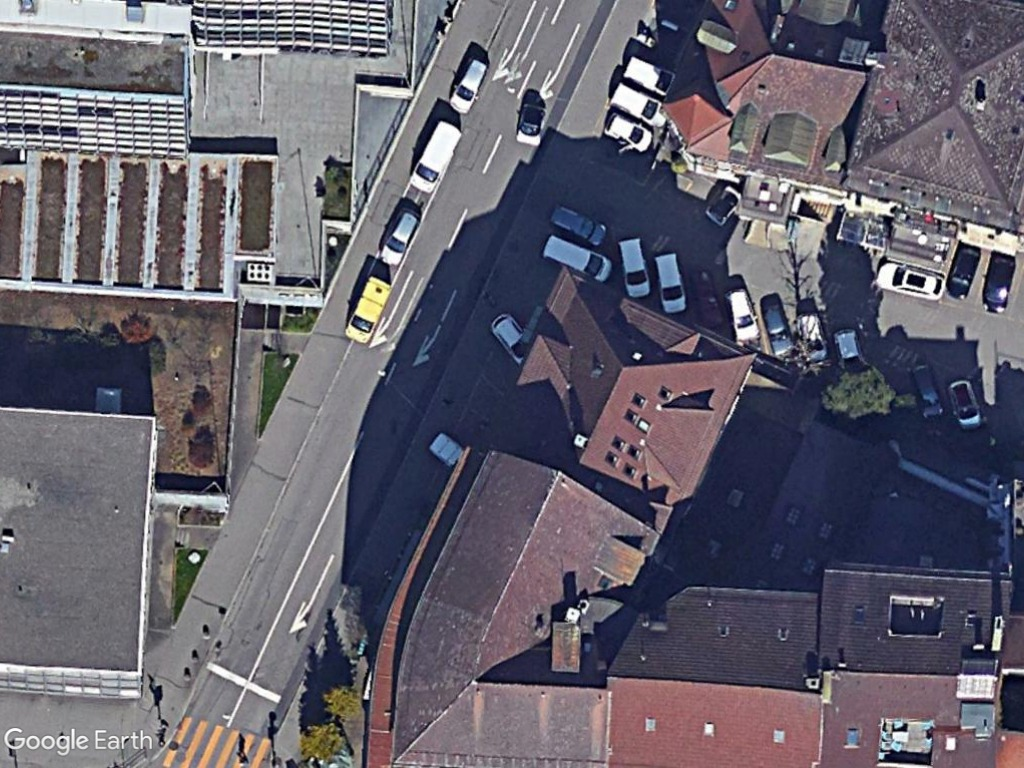car: (872, 258, 946, 304), (445, 55, 492, 116), (548, 202, 611, 247), (377, 206, 421, 268), (722, 285, 761, 346), (653, 250, 688, 316), (606, 110, 656, 153), (617, 236, 650, 298)
van: (408, 119, 463, 194), (341, 274, 395, 346), (541, 232, 613, 284), (606, 81, 670, 130)
